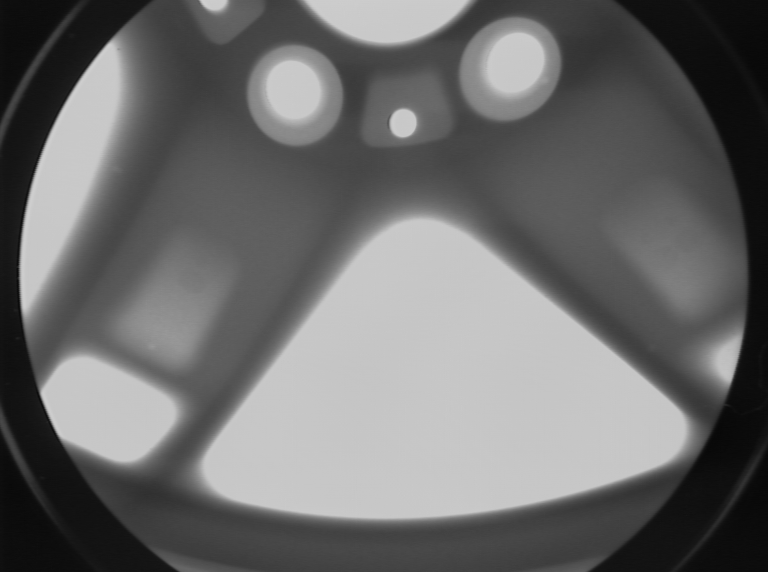defect: (642, 337, 660, 360)
